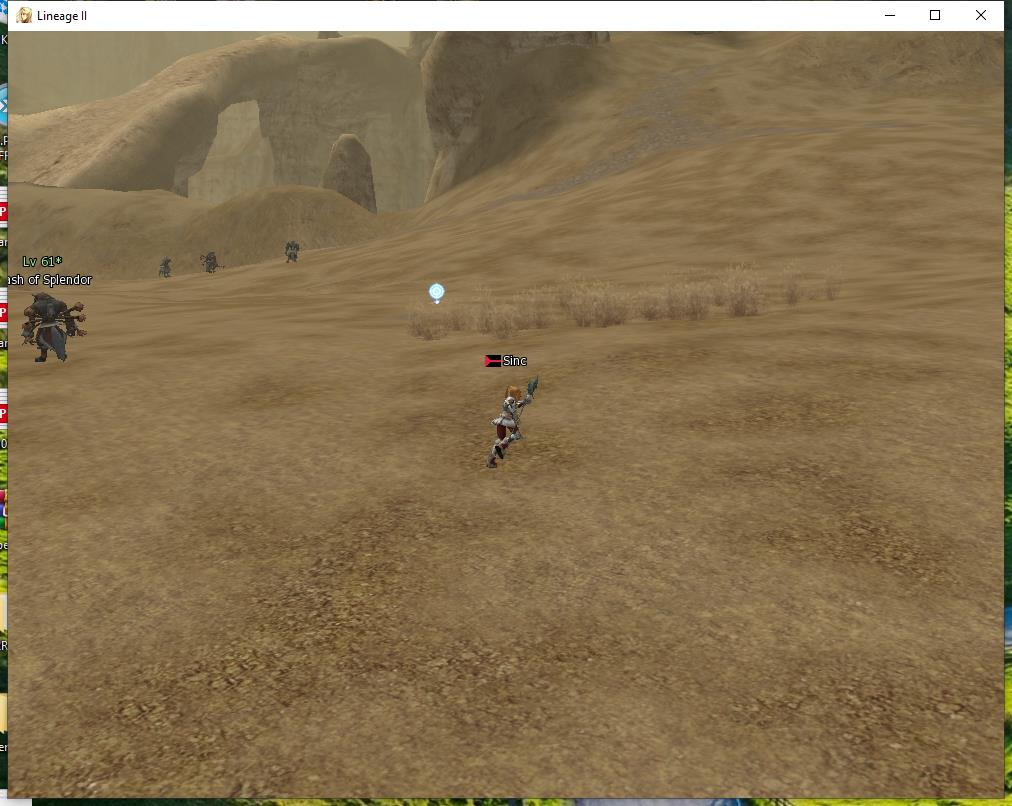monster: (11, 246, 107, 379), (287, 229, 309, 264), (207, 244, 230, 275), (154, 258, 169, 288)
